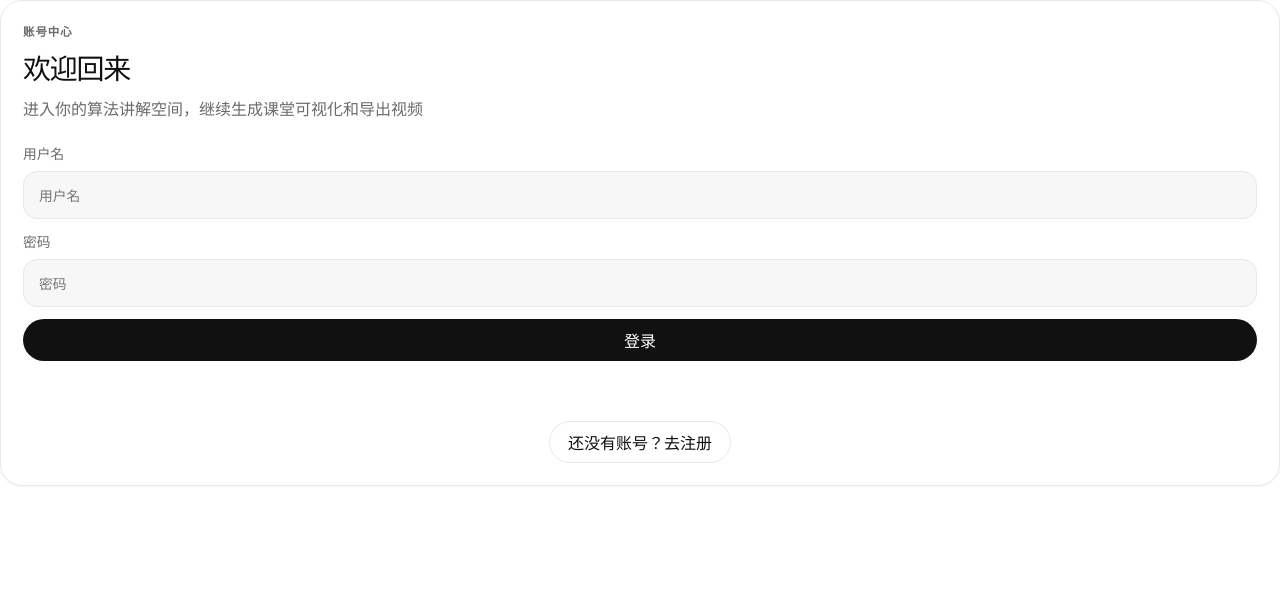
AuthPanel › requires password confirmation before registering
Click the button with class "auth-toggle" at (640, 442), box top-left (549, 421), bottom-right (731, 463)
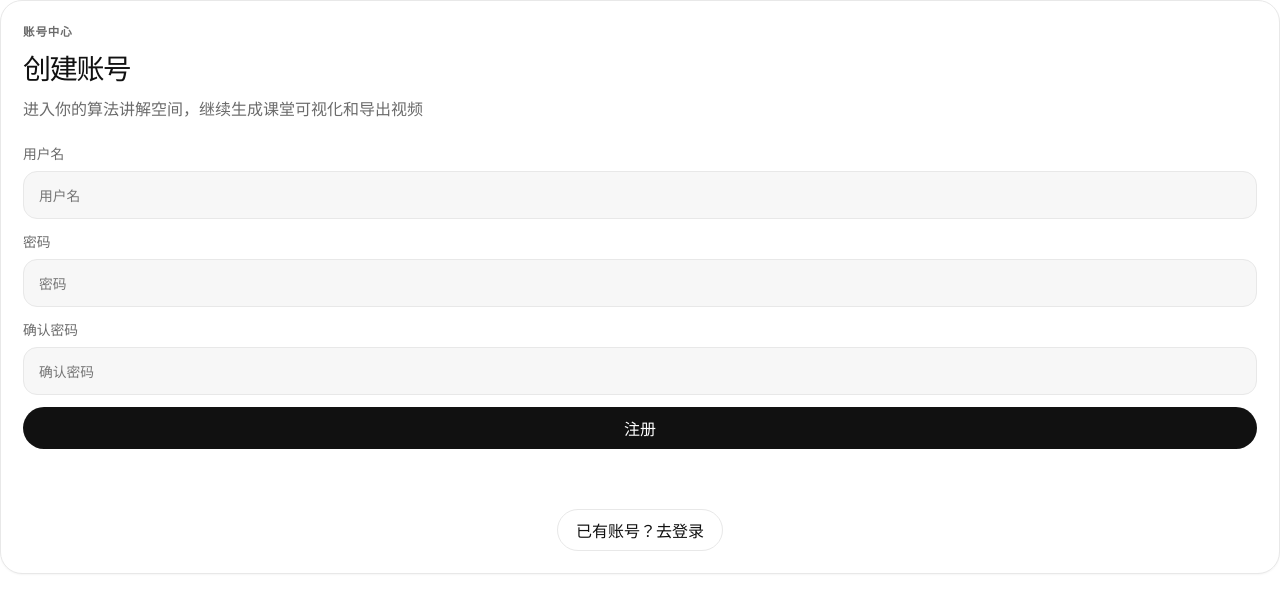
Type "sakura" into the field with placeholder "用户名" at (640, 195), box top-left (23, 171), bottom-right (1257, 219)
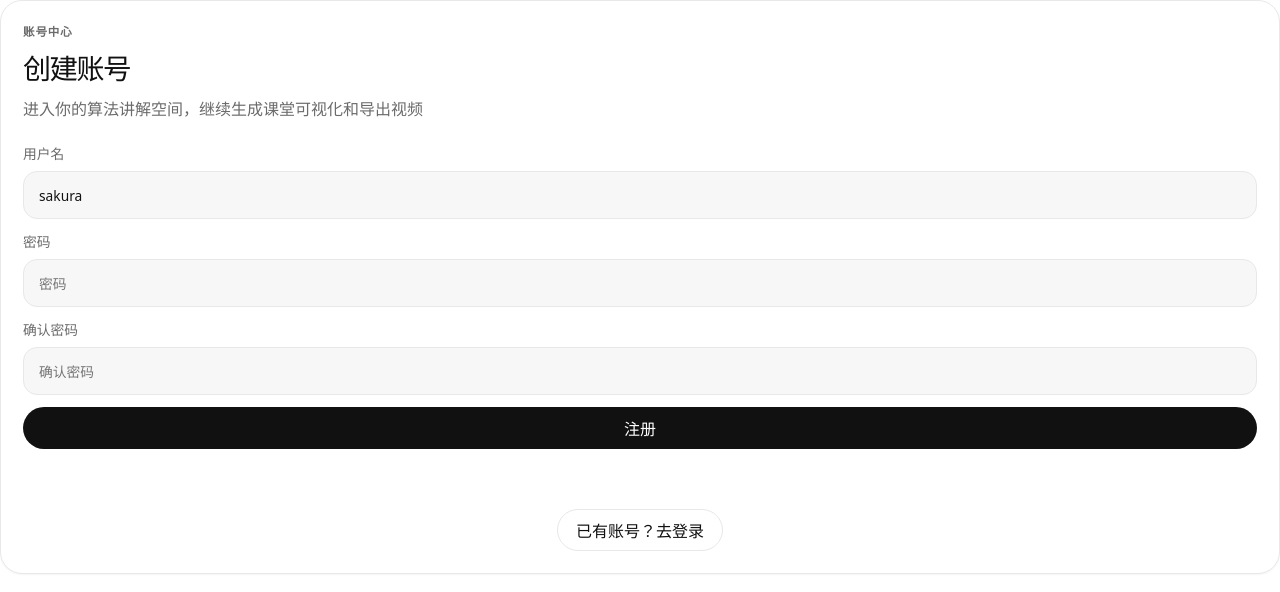
Type "secret-pass" into the password field with placeholder "密码" at (640, 283), box top-left (23, 259), bottom-right (1257, 307)
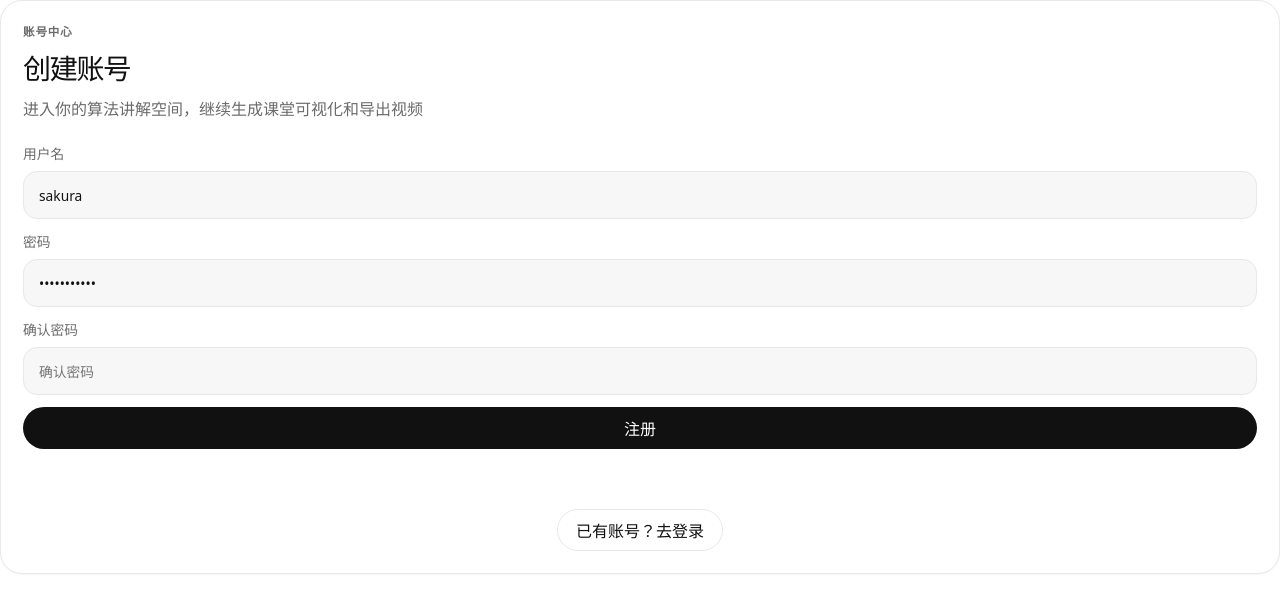
Type "different-pass" into the password field with placeholder "确认密码" at (640, 371), box top-left (23, 347), bottom-right (1257, 395)
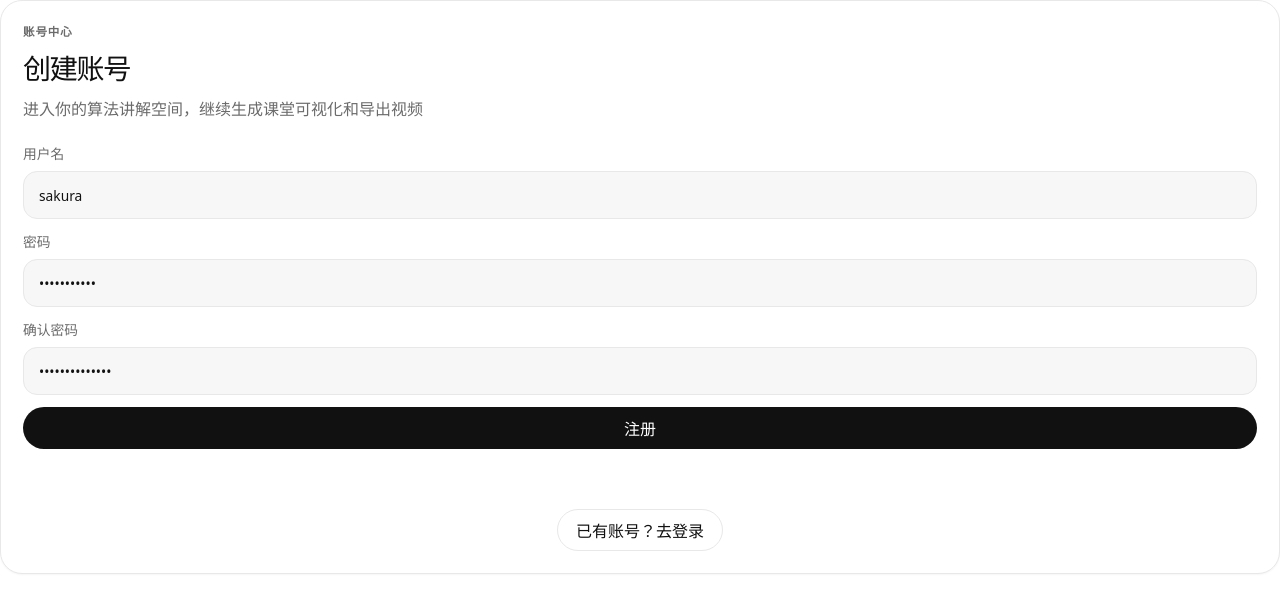
Submit the form with class "auth-form", box top-left (23, 143), bottom-right (1257, 449)
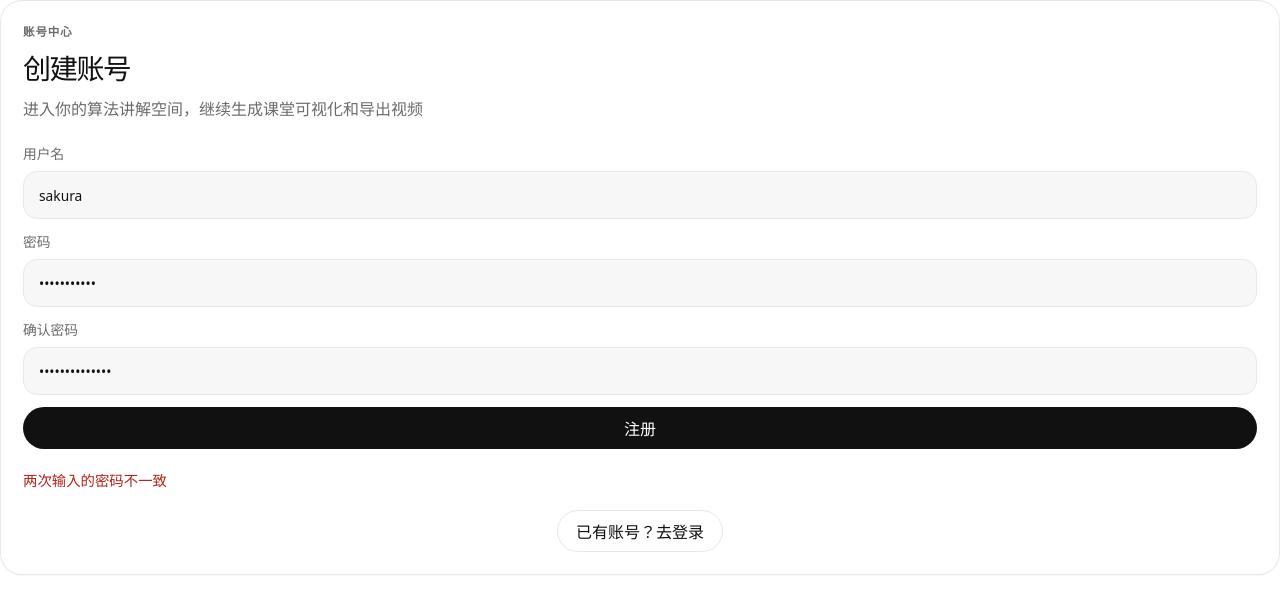
Expected: the text "两次输入的密码不一致" is shown, top-left (23, 471), bottom-right (167, 490)
